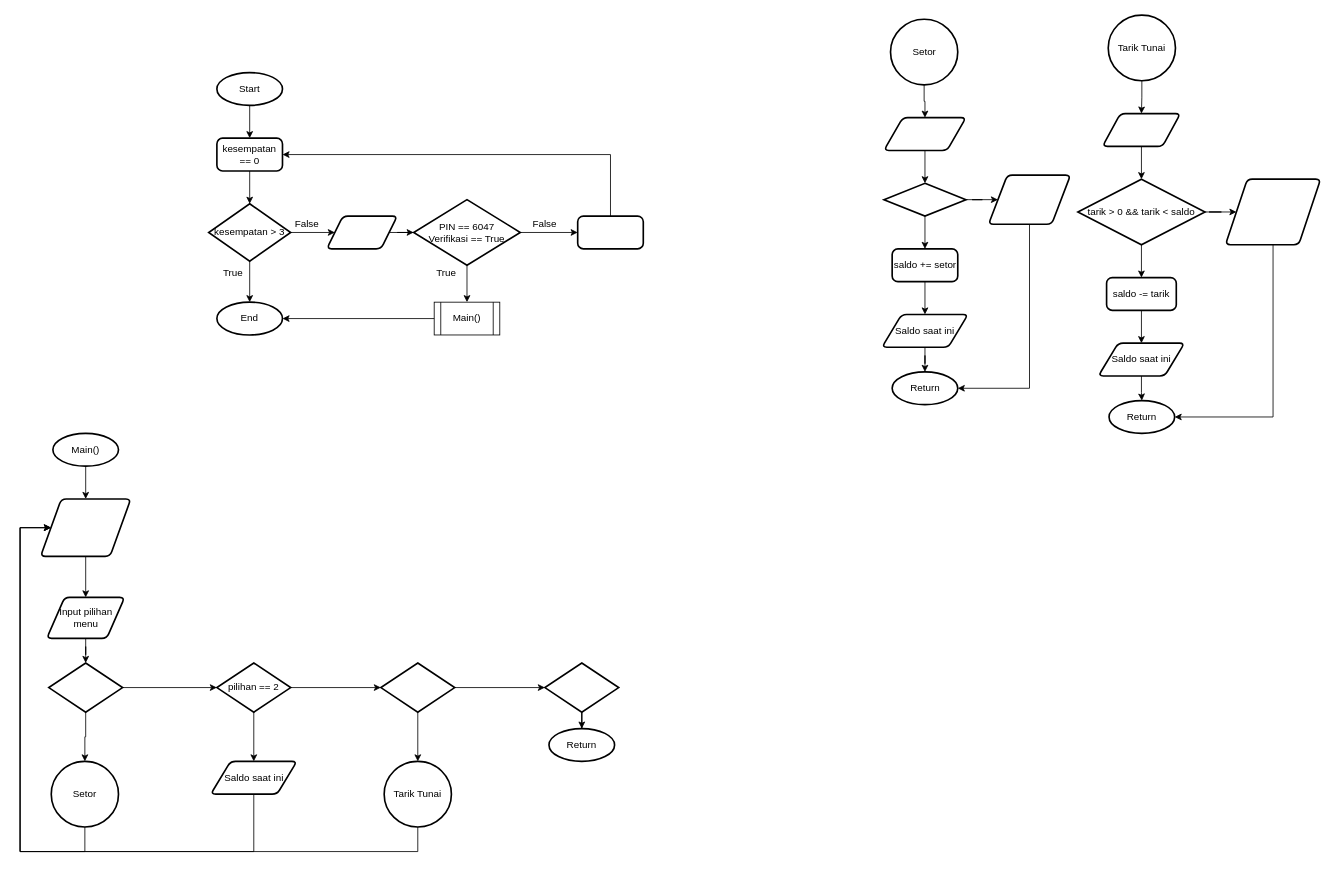
Image size: 1336x872. Some labels were removed from this diagram. The box of each missing label's shape, as (x1, y1, x2, y2) in pixels:
Input PIN: (326, 215, 398, 249)
Input setor: (883, 116, 966, 151)
Input tarik: (1101, 112, 1181, 147)
kesempatan =+ 1: (576, 215, 644, 249)
Menu ATM 1. Setor Tunai 2. Cek Saldo 3. Tarik Tunai 4. Keluar: (39, 498, 131, 557)
pilihan == 1: (48, 662, 123, 713)
pilihan == 3: (380, 662, 455, 713)
pilihan == 4: (544, 662, 619, 713)
Saldo Tidak Mencukupi atau Jumlah tarik tidak valid: (1224, 178, 1321, 245)
setor > 0: (883, 182, 966, 216)
Setor Tidak Valid: (987, 174, 1071, 225)
